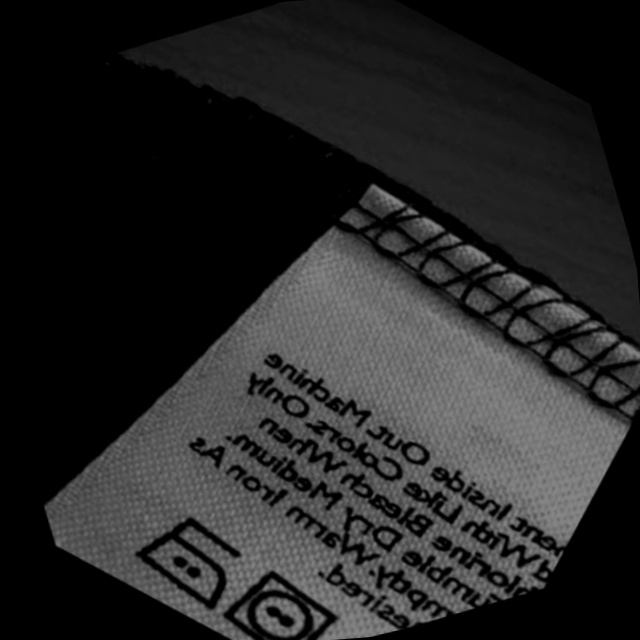iron_medium: (121, 504, 253, 627)
tumble_dry_medium: (210, 557, 343, 640)
